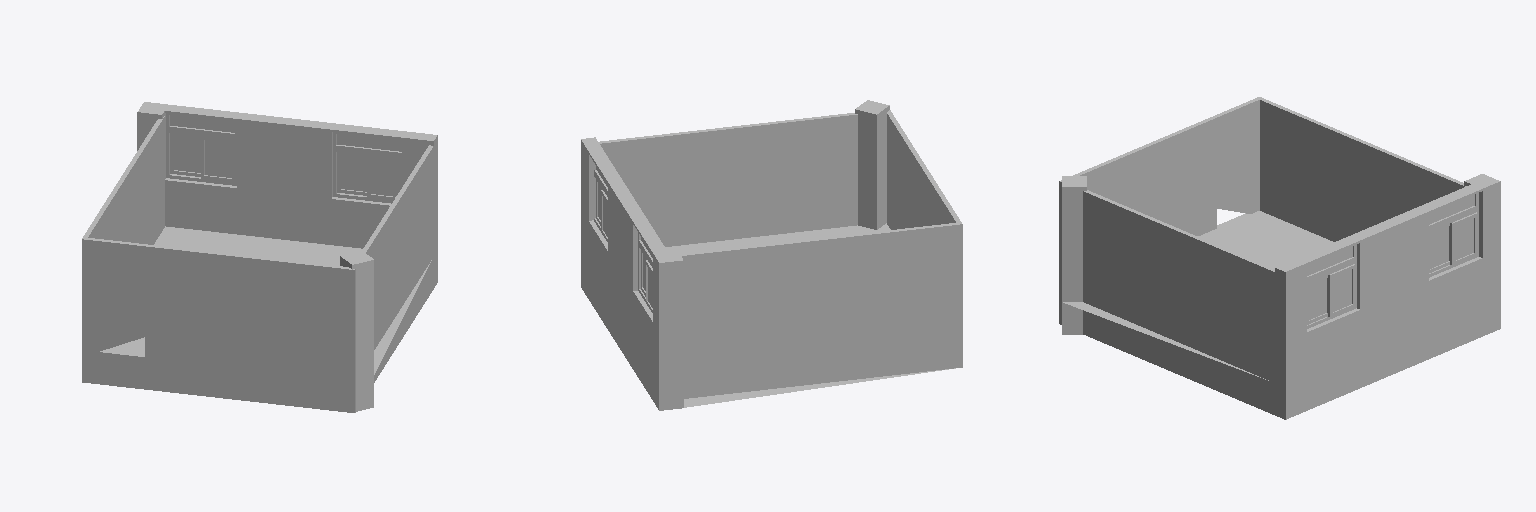
3 renders of one model, left to right at view 1: azimuth 30°, elevation 25°; view 2: azimuth 150°, elevation 25°; view 3: azimuth 270°, elevation 25°, orthographic.
Visible parts, largest first — view 1: Mesh1 Group1 Model, Mesh3 Group3 Model, Mesh2 Group2 Model, Mesh6 Group6 Model, Mesh5 Group5 Model, Mesh7 Group7 Model, Mesh9 Glazing Window_Sliding_Casement_14 Window_Sliding_7_1 Grou, Mesh22 Glazing8 Window_Sliding_Casement_14_3 Window_Sliding_7_2 , Mesh19 Glazing6 Window_Sliding_Casement_14_2 Window_Sliding_7_2 , Mesh12 Glazing2 Window_Sliding_Casement_14_1 Window_Sliding_7_1 , Mesh18 Window_Sliding_Main_Frame_7_1 Window_Sliding_7_2 Group9 M, Mesh8 Window_Sliding_Main_Frame_7 Window_Sliding_7_1 Group8 Mode (+3 smaller); view 2: Mesh5 Group5 Model, Mesh6 Group6 Model, Mesh3 Group3 Model, Mesh2 Group2 Model, Mesh1 Group1 Model, Mesh7 Group7 Model, Mesh4 Group4 Model; view 3: Mesh3 Group3 Model, Mesh6 Group6 Model, Mesh5 Group5 Model, Mesh1 Group1 Model, Mesh2 Group2 Model, Mesh7 Group7 Model, Mesh4 Group4 Model, Mesh10 Glazing1 Window_Sliding_Casement_14 Window_Sliding_7_1 Gr, Mesh23 Glazing9 Window_Sliding_Casement_14_3 Window_Sliding_7_2 , Mesh13 Glazing3 Window_Sliding_Casement_14_1 Window_Sliding_7_1 , Mesh20 Glazing7 Window_Sliding_Casement_14_2 Window_Sliding_7_2 , Mesh14 Window_Sliding_Casement_14_1 Window_Sliding_7_1 Group8 Mo (+1 smaller).
Boxes of the visible parts, x1=… form: Mesh1 Group1 Model: x1=82, y1=237, x2=355, y2=380; Mesh3 Group3 Model: x1=140, y1=102, x2=437, y2=287; Mesh2 Group2 Model: x1=82, y1=226, x2=433, y2=412; Mesh6 Group6 Model: x1=362, y1=145, x2=433, y2=349; Mesh5 Group5 Model: x1=83, y1=116, x2=164, y2=244; Mesh7 Group7 Model: x1=340, y1=250, x2=373, y2=379; Mesh9 Glazing Window_Sliding_Casement_14 Window_Sliding_7_1 Grou: x1=371, y1=159, x2=398, y2=196; Mesh22 Glazing8 Window_Sliding_Casement_14_3 Window_Sliding_7_2 : x1=174, y1=135, x2=200, y2=172; Mesh19 Glazing6 Window_Sliding_Casement_14_2 Window_Sliding_7_2 : x1=205, y1=140, x2=231, y2=177; Mesh12 Glazing2 Window_Sliding_Casement_14_1 Window_Sliding_7_1 : x1=341, y1=154, x2=366, y2=191; Mesh18 Window_Sliding_Main_Frame_7_1 Window_Sliding_7_2 Group9 M: x1=166, y1=129, x2=236, y2=185; Mesh8 Window_Sliding_Main_Frame_7 Window_Sliding_7_1 Group8 Mode: x1=333, y1=148, x2=403, y2=203; Mesh5 Group5 Model: x1=680, y1=223, x2=957, y2=366; Mesh6 Group6 Model: x1=599, y1=113, x2=857, y2=246; Mesh3 Group3 Model: x1=581, y1=137, x2=673, y2=410; Mesh2 Group2 Model: x1=665, y1=223, x2=962, y2=408; Mesh1 Group1 Model: x1=887, y1=110, x2=962, y2=335; Mesh7 Group7 Model: x1=855, y1=100, x2=889, y2=229; Mesh4 Group4 Model: x1=653, y1=250, x2=683, y2=377; Mesh3 Group3 Model: x1=1275, y1=178, x2=1500, y2=419; Mesh6 Group6 Model: x1=1083, y1=190, x2=1274, y2=382; Mesh5 Group5 Model: x1=1260, y1=98, x2=1465, y2=241; Mesh1 Group1 Model: x1=1059, y1=97, x2=1261, y2=292; Mesh2 Group2 Model: x1=1059, y1=211, x2=1333, y2=414; Mesh7 Group7 Model: x1=1062, y1=176, x2=1086, y2=301; Mesh4 Group4 Model: x1=1464, y1=174, x2=1500, y2=303; Mesh10 Glazing1 Window_Sliding_Casement_14 Window_Sliding_7_1 Gr: x1=1308, y1=278, x2=1326, y2=320; Mesh23 Glazing9 Window_Sliding_Casement_14_3 Window_Sliding_7_2 : x1=1455, y1=218, x2=1473, y2=260; Mesh13 Glazing3 Window_Sliding_Casement_14_1 Window_Sliding_7_1 : x1=1333, y1=270, x2=1351, y2=311; Mesh20 Glazing7 Window_Sliding_Casement_14_2 Window_Sliding_7_2 : x1=1430, y1=227, x2=1448, y2=268; Mesh14 Window_Sliding_Casement_14_1 Window_Sliding_7_1 Group8 Mo: x1=1328, y1=264, x2=1355, y2=316.
Bounding box in the file's own units: 8.36 × 3.2 × 8.65.